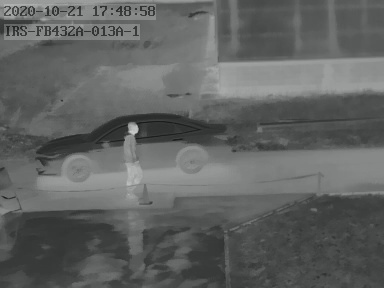person: (121, 120, 143, 199)
vehicle: (34, 113, 224, 182)
